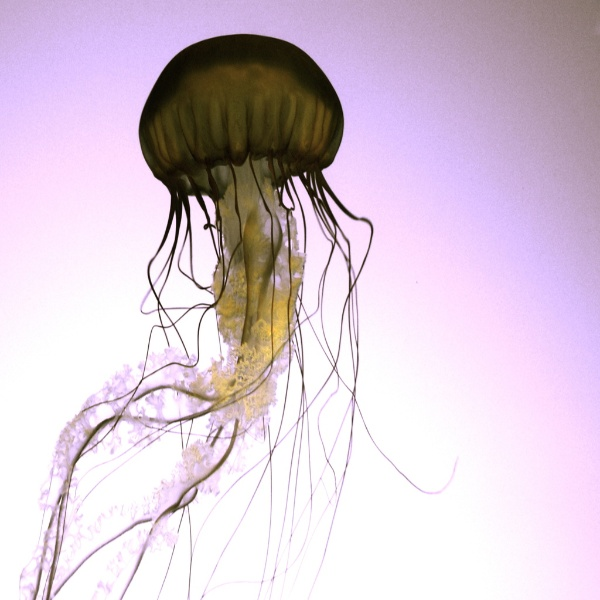Jellyfish: (15, 29, 460, 599)
